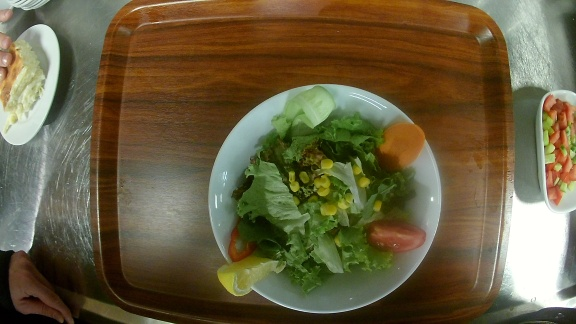salata: (208, 83, 443, 313)
